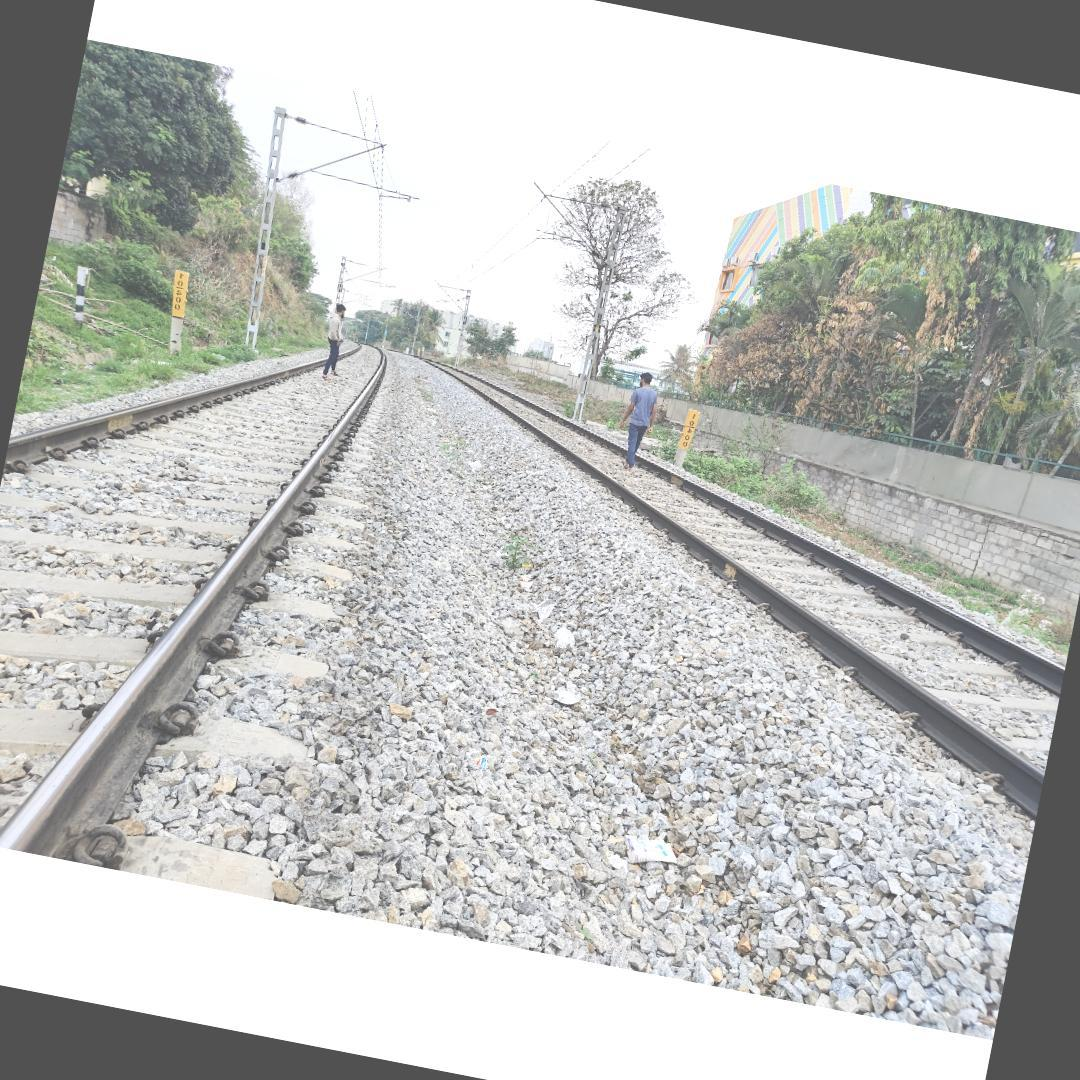standing: (612, 368, 666, 473), (317, 302, 353, 382)
track: (386, 347, 1066, 841), (0, 337, 393, 869)
